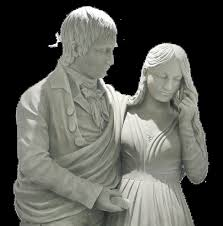person-like: (13, 5, 133, 226), (119, 37, 211, 226)
